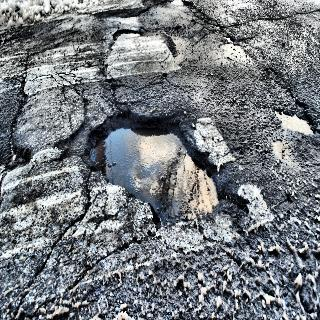alligator-crack: (56, 56, 115, 103)
crack: (4, 226, 71, 320), (211, 11, 286, 90), (78, 244, 130, 278), (295, 5, 320, 40)
pothole: (74, 112, 231, 224), (277, 96, 315, 135), (106, 16, 140, 47), (4, 133, 34, 165)
